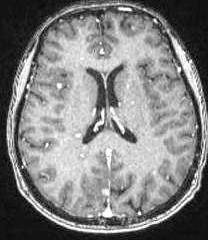Normal_Brain: (1, 1, 208, 240)
